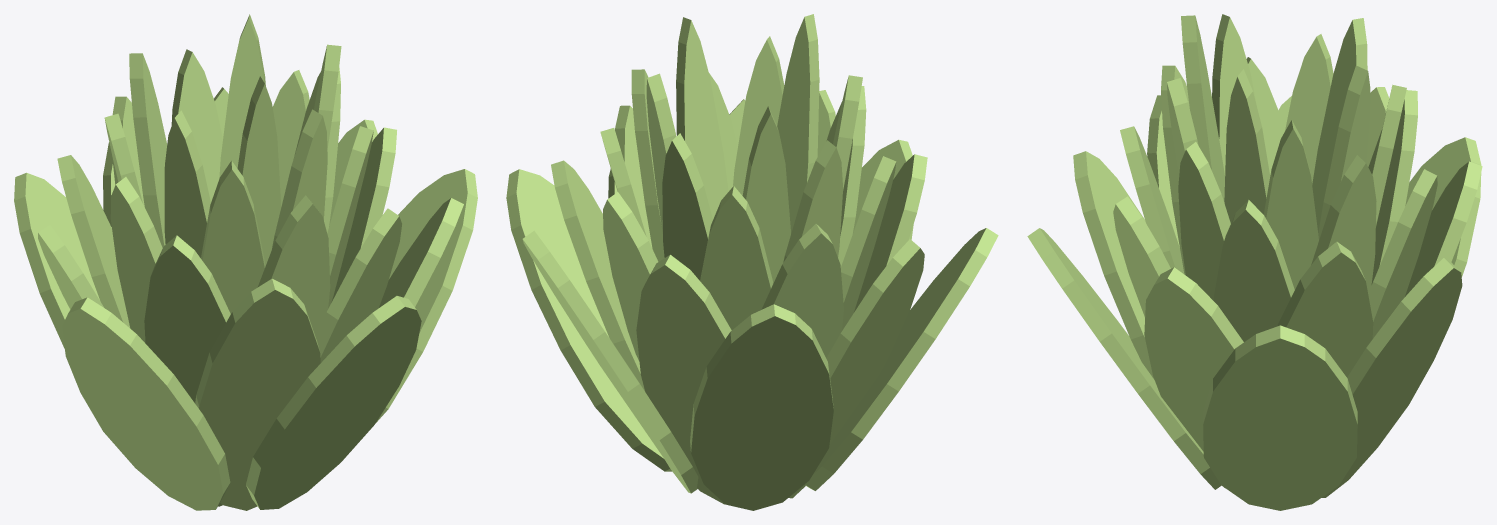
Rendered from bush-02.fbx.
The picture shows the model from 3 angles, left to right: view 1: azimuth 30°, elevation 25°; view 2: azimuth 150°, elevation 25°; view 3: azimuth 270°, elevation 25°; orthographic projection. The views are drawn at different scales.
Visible parts, largest first — view 1: bush-02; view 2: bush-02; view 3: bush-02.
Part boxes in pixels (<box>): bush-02: <box>14,14,477,510</box>; bush-02: <box>506,14,998,510</box>; bush-02: <box>1027,14,1482,510</box>.
Bounding box in the file's own units: 45.99 × 44.23 × 39.92.
